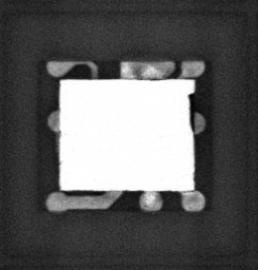DIE_BROKEN: (187, 89, 196, 134)
